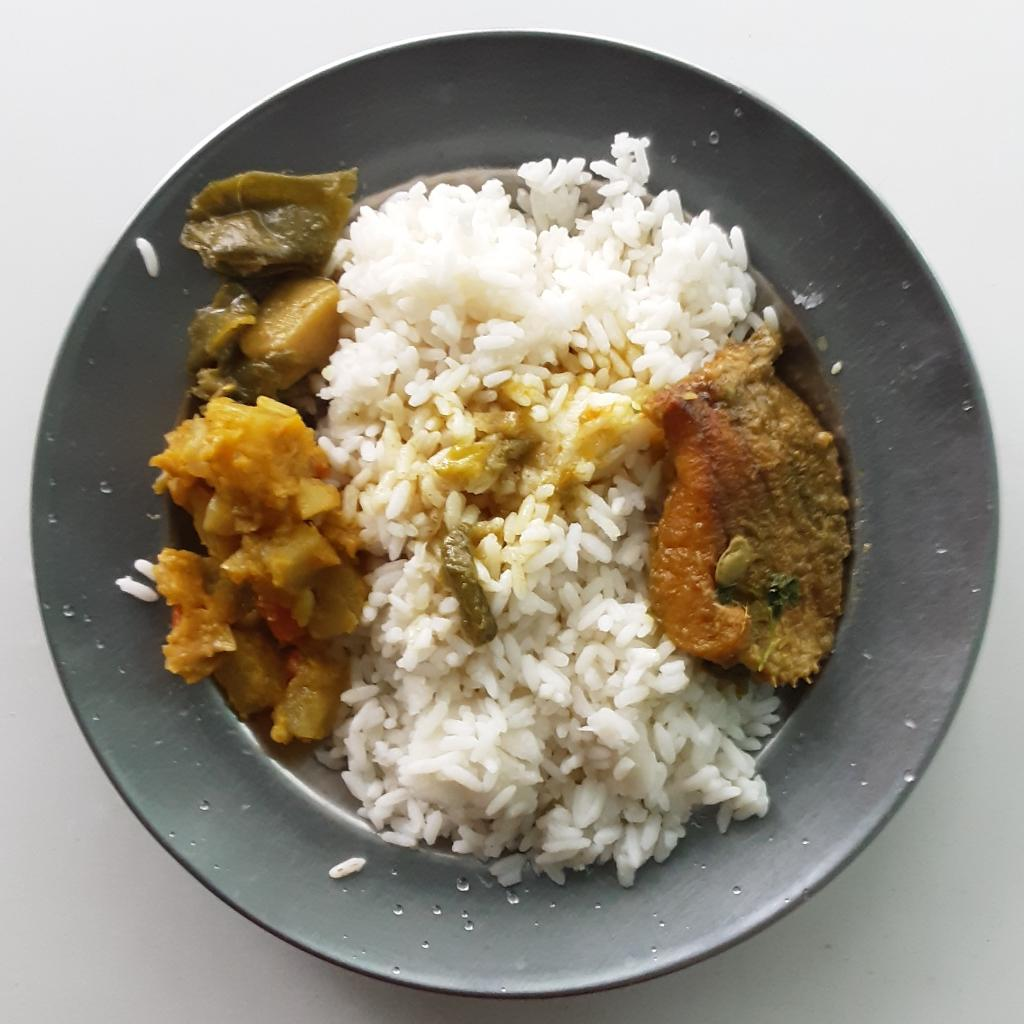fish: (641, 331, 856, 688)
papaya: (148, 392, 365, 744)
potato: (234, 266, 335, 393)
rice: (291, 126, 790, 894)
shim: (182, 166, 355, 403)
